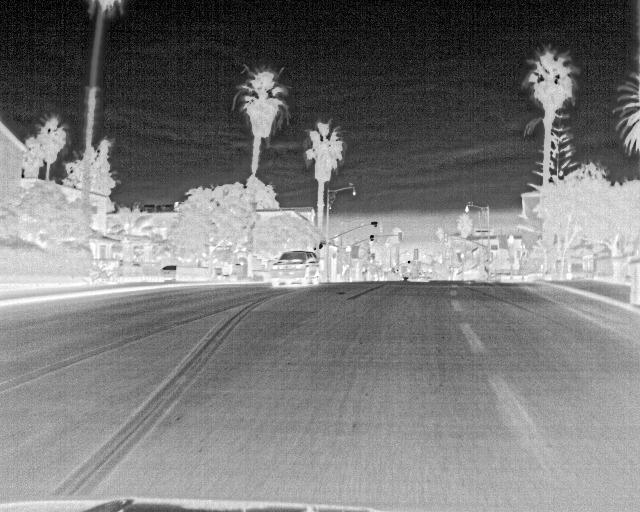car: (270, 251, 322, 286), (159, 264, 178, 283)
